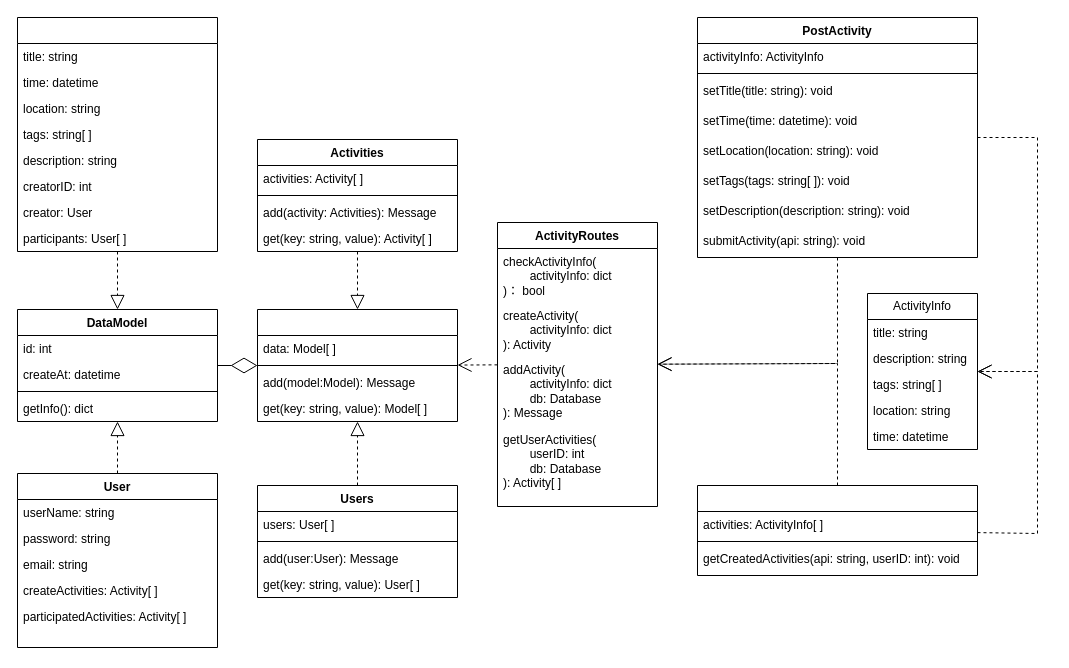
Image size: 1069x668. Some labels were removed from this diagram. The shapes that lost their labels are listed below. From the top down, each one's box as (x1, y1, x2, y2) in pixels, then its label:
(16, 16, 218, 252): Activity
(256, 308, 458, 422): DataBase
(696, 484, 978, 576): MyActivities
